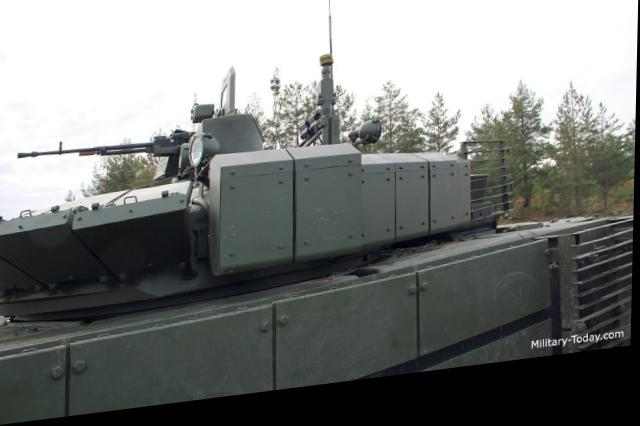tank: (0, 64, 637, 422)
